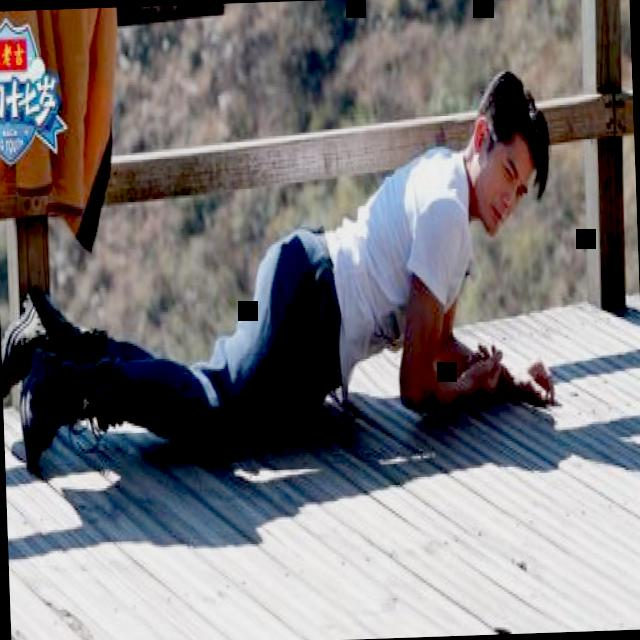Fall-Detected: (0, 40, 582, 479)
